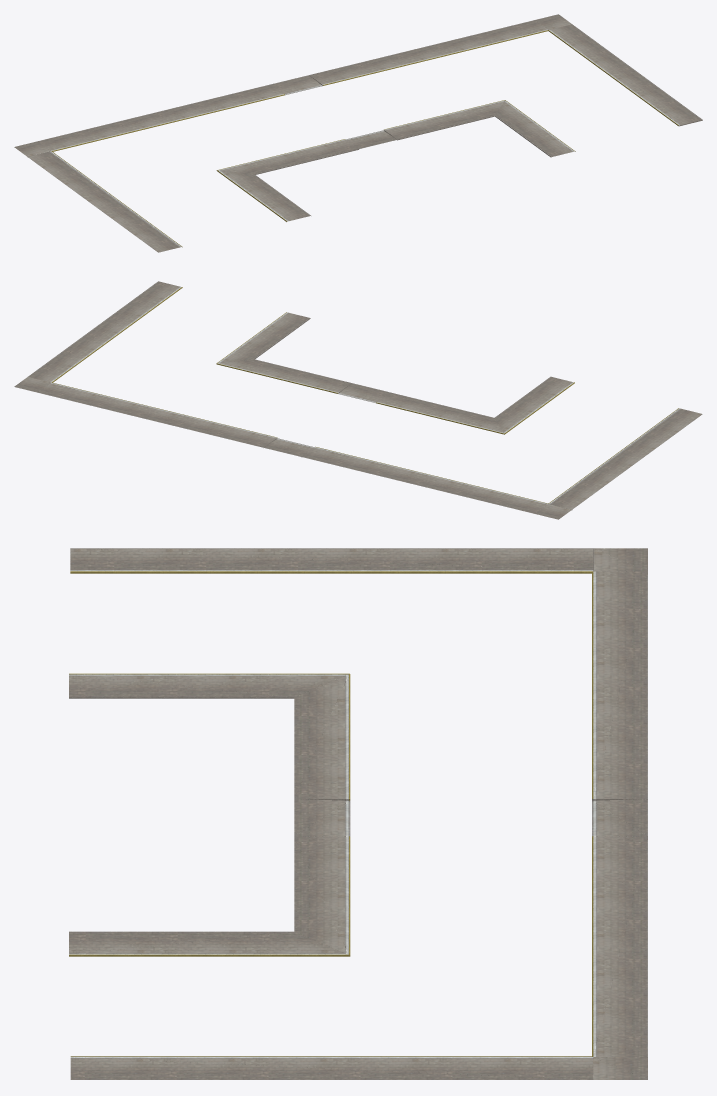
The model's file is Sidewalk.fbx.
3 views of the same model, one above another, from view 1: azimuth 30°, elevation 25°; view 2: azimuth 150°, elevation 25°; view 3: azimuth 270°, elevation 25° (orthographic). The views are drawn at different scales.
Parts seen in each view (by area): view 1: Sidewalk; view 2: Sidewalk; view 3: Sidewalk.
Boxes of the visible parts, x1=… form: Sidewalk: x1=14, y1=14, x2=702, y2=252; Sidewalk: x1=14, y1=281, x2=702, y2=519; Sidewalk: x1=69, y1=548, x2=647, y2=1079.
Bounding box in the file's own units: 9141 × 14.24 × 4207.
